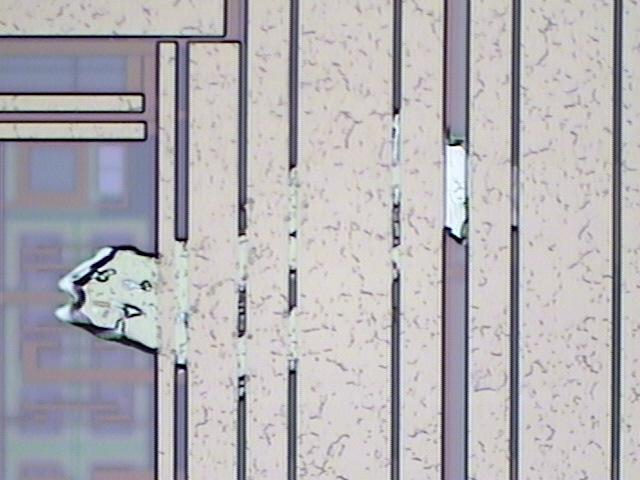BLOCK ETCH: (48, 104, 550, 403)
